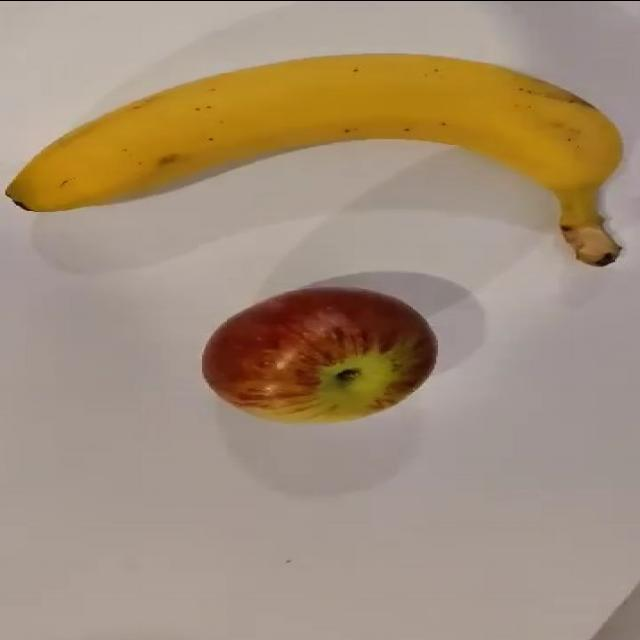Apple: (201, 285, 438, 424)
Banana: (5, 51, 624, 267)
